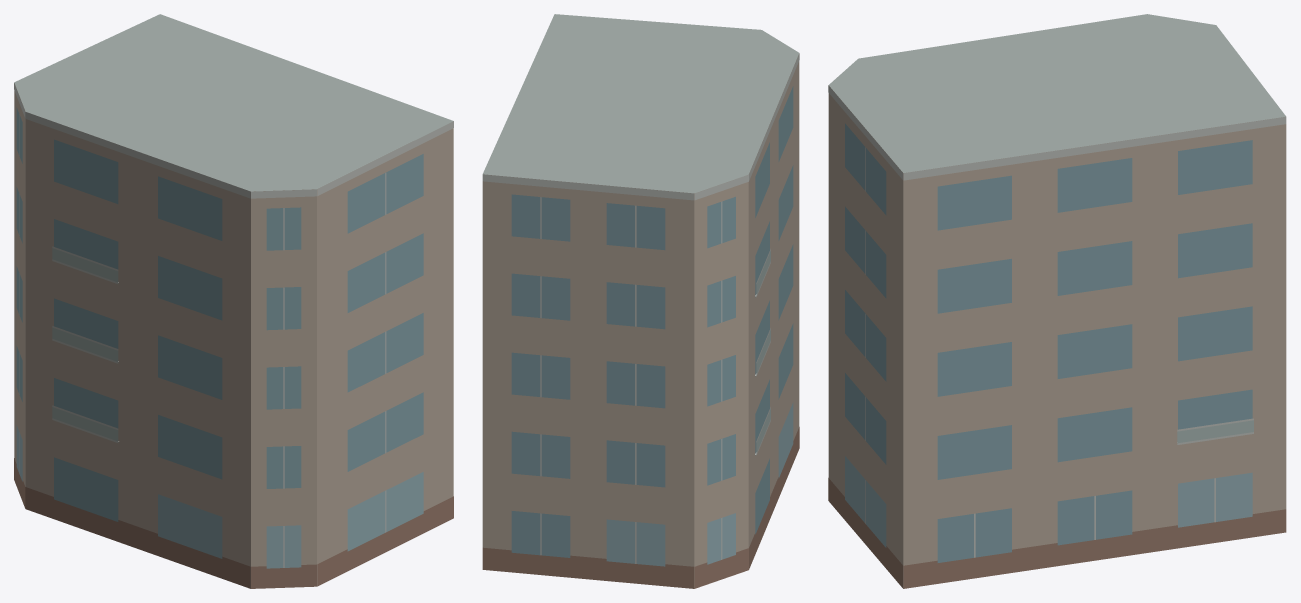
Rendered from survey-upis-33015964.glb.
3 renders of one model, left to right at view 1: azimuth 30°, elevation 25°; view 2: azimuth 150°, elevation 25°; view 3: azimuth 270°, elevation 25°, orthographic. The views are drawn at different scales.
Parts seen in each view (by area): view 1: survey-upis-33015964.tmp; view 2: survey-upis-33015964.tmp; view 3: survey-upis-33015964.tmp.
Part boxes in pixels (x1,y1,x2,y2): survey-upis-33015964.tmp: (14, 14, 453, 588); survey-upis-33015964.tmp: (482, 14, 799, 588); survey-upis-33015964.tmp: (828, 14, 1286, 588).
Bounding box in the file's own units: 11.17 × 13.6 × 13.58.
